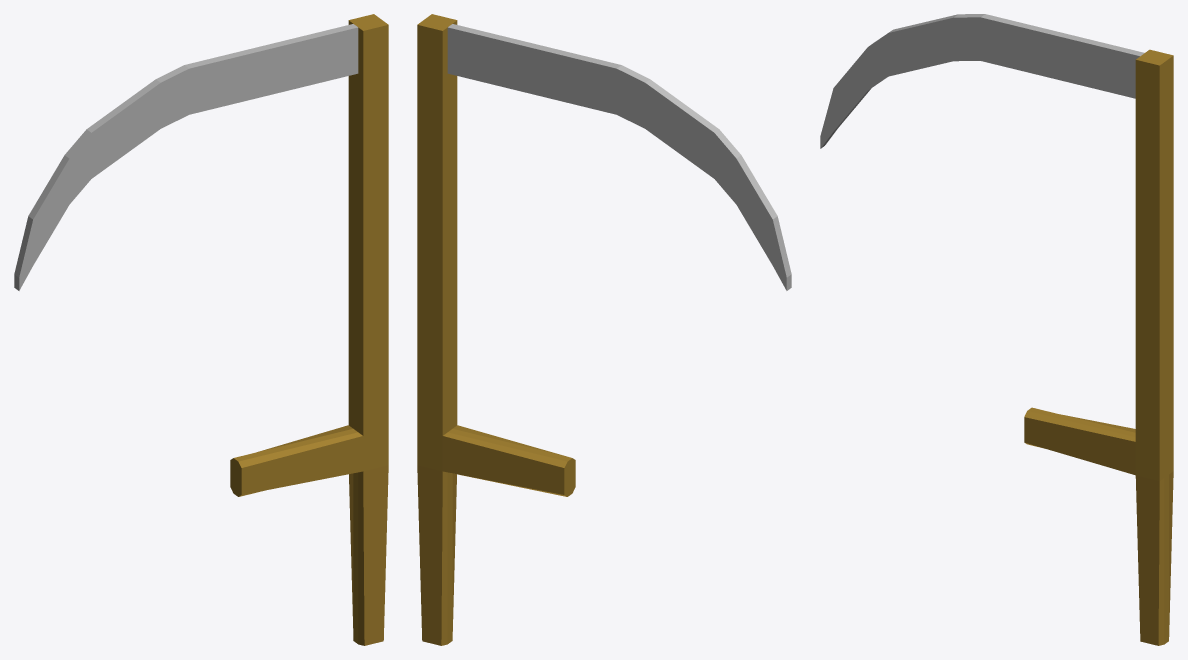
Rendered from scythe.fbx.
The picture shows the model from 3 angles, left to right: view 1: azimuth 30°, elevation 25°; view 2: azimuth 150°, elevation 25°; view 3: azimuth 330°, elevation 25°; orthographic projection. The views are drawn at different scales.
Visible parts, largest first — view 1: scythe; view 2: scythe; view 3: scythe.
Boxes of the visible parts, x1,y1,x2,y2 form: scythe: (14,14,388,645); scythe: (417,14,791,645); scythe: (820,14,1173,645).
Bounding box in the file's own units: 297 × 480 × 20.74.
